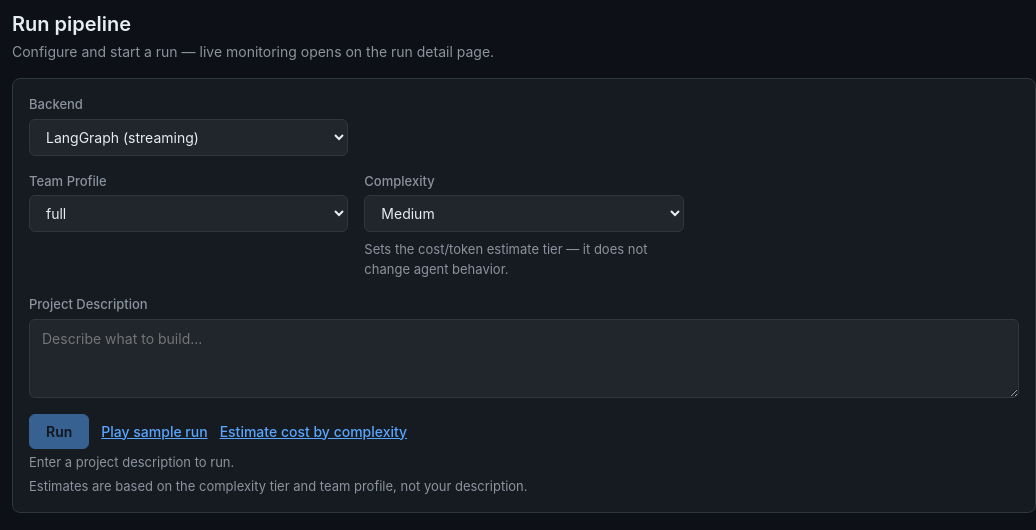
Run › enables Run when description is provided
Type "Build an API" into the text box with test id "run-description".
click(524, 358); type("Build an API")  # box [29,318,1019,398]
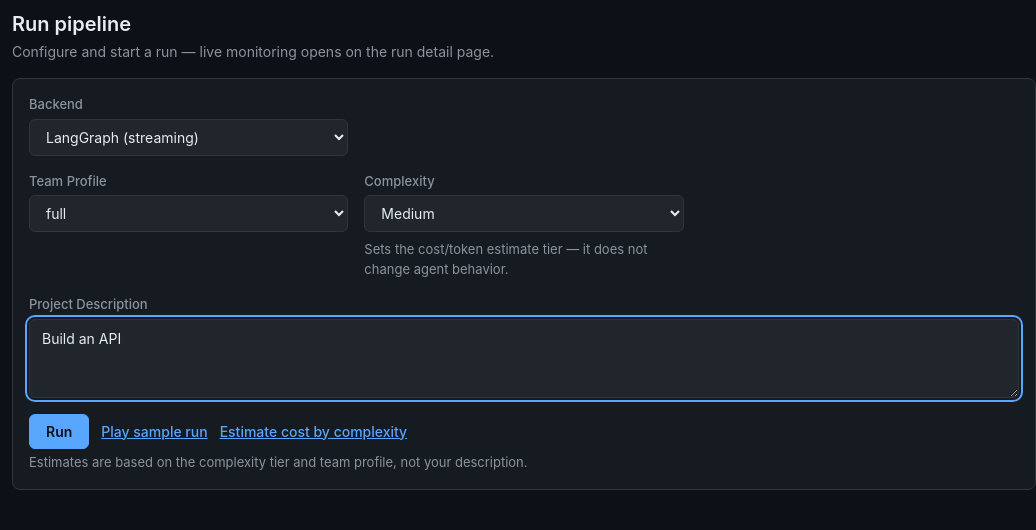
Expected: the button with test id "run-submit" is enabled, [29,414,89,449]
